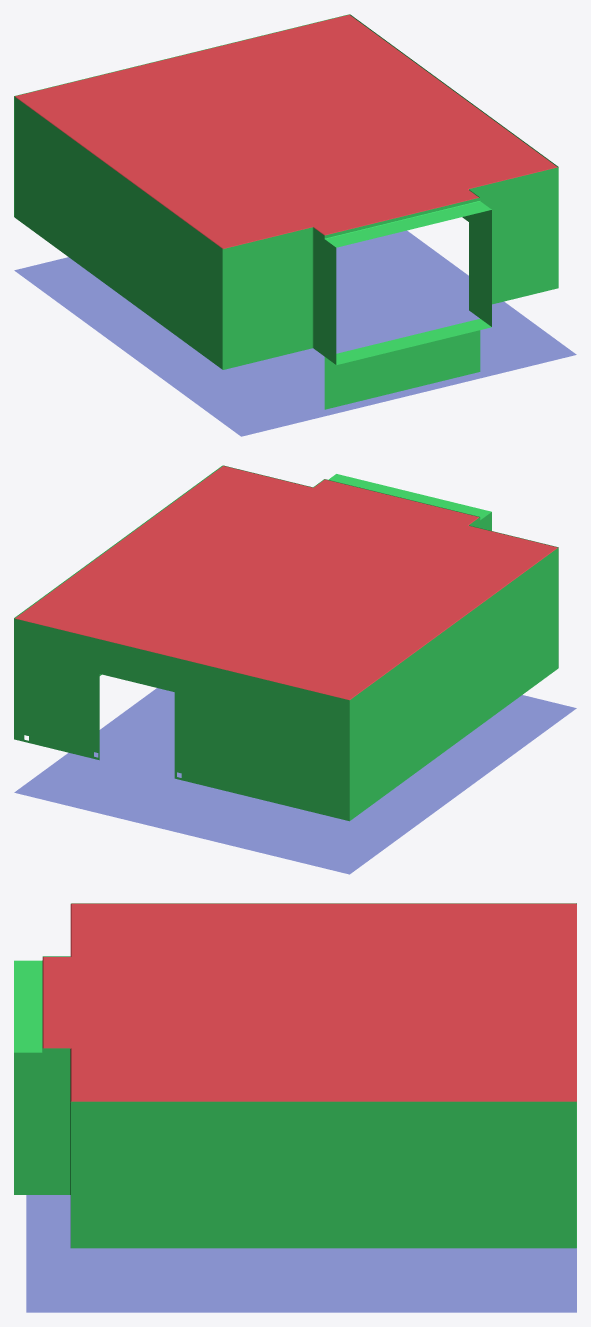
Rendered from konfroom.fbx.
The picture shows the model from 3 angles, top to bottom: view 1: azimuth 30°, elevation 25°; view 2: azimuth 150°, elevation 25°; view 3: azimuth 270°, elevation 25°; orthographic projection. The views are drawn at different scales.
Visible parts, largest first — view 1: konfroom; view 2: konfroom; view 3: konfroom.
Boxes of the visible parts, x1,y1,x2,y2 form: konfroom: [14, 14, 576, 436]; konfroom: [14, 465, 576, 874]; konfroom: [14, 903, 576, 1312].
Bounding box in the file's own units: 510 × 253 × 611.
